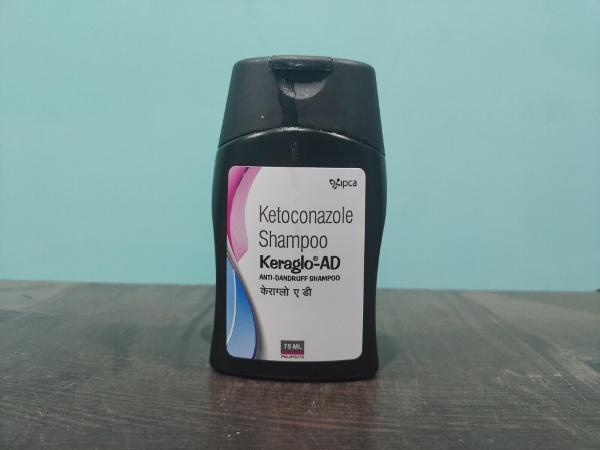KeraGlo: (193, 53, 401, 392)
